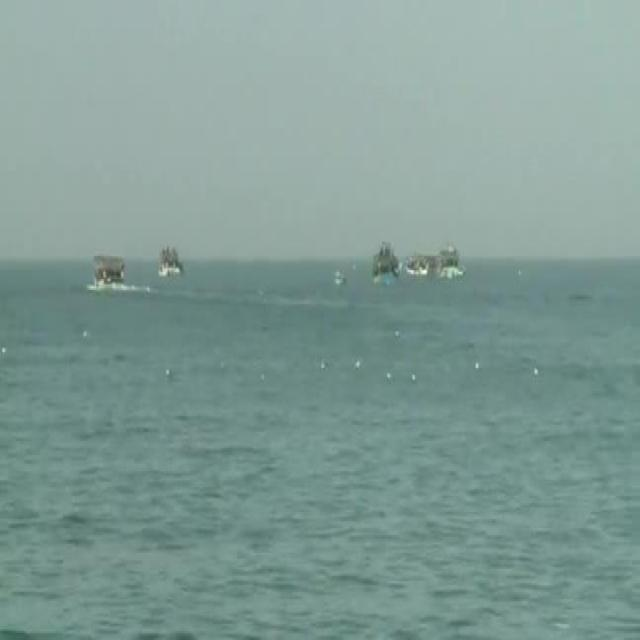houseboat: (82, 244, 135, 300), (146, 231, 185, 283), (401, 228, 440, 278), (367, 234, 400, 290), (442, 232, 466, 278)
